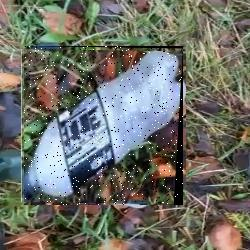plastic: (24, 46, 183, 205)
